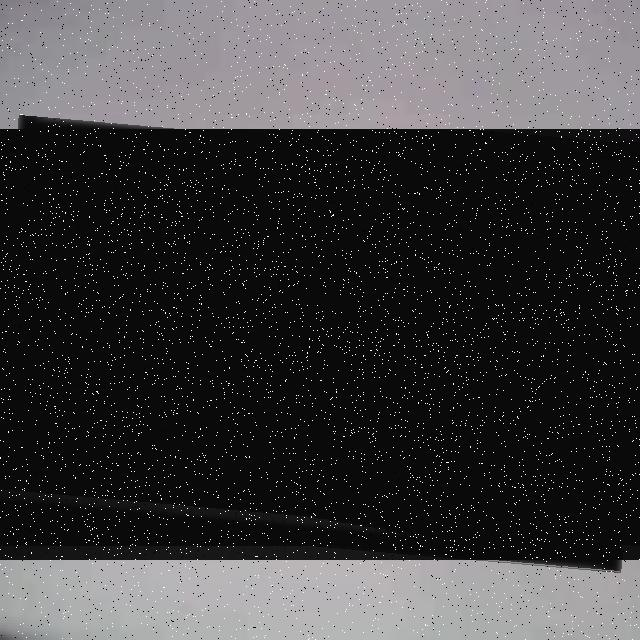dua ribu rupiah: (0, 129, 640, 560)
